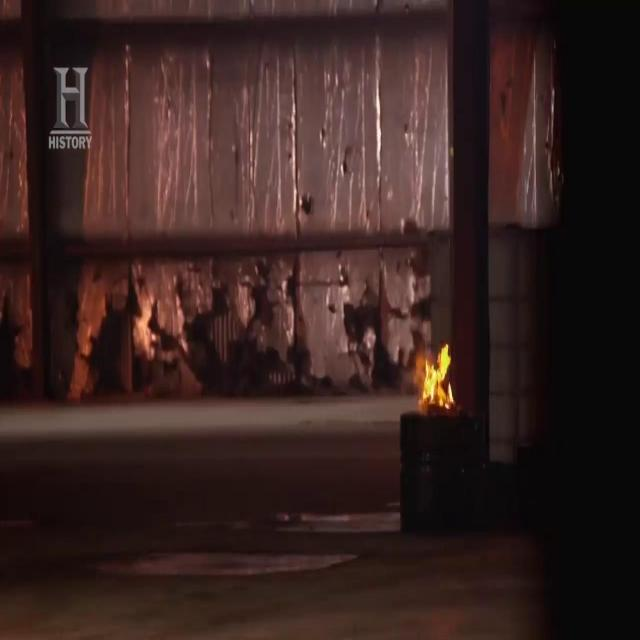Fire: (413, 330, 464, 415)
